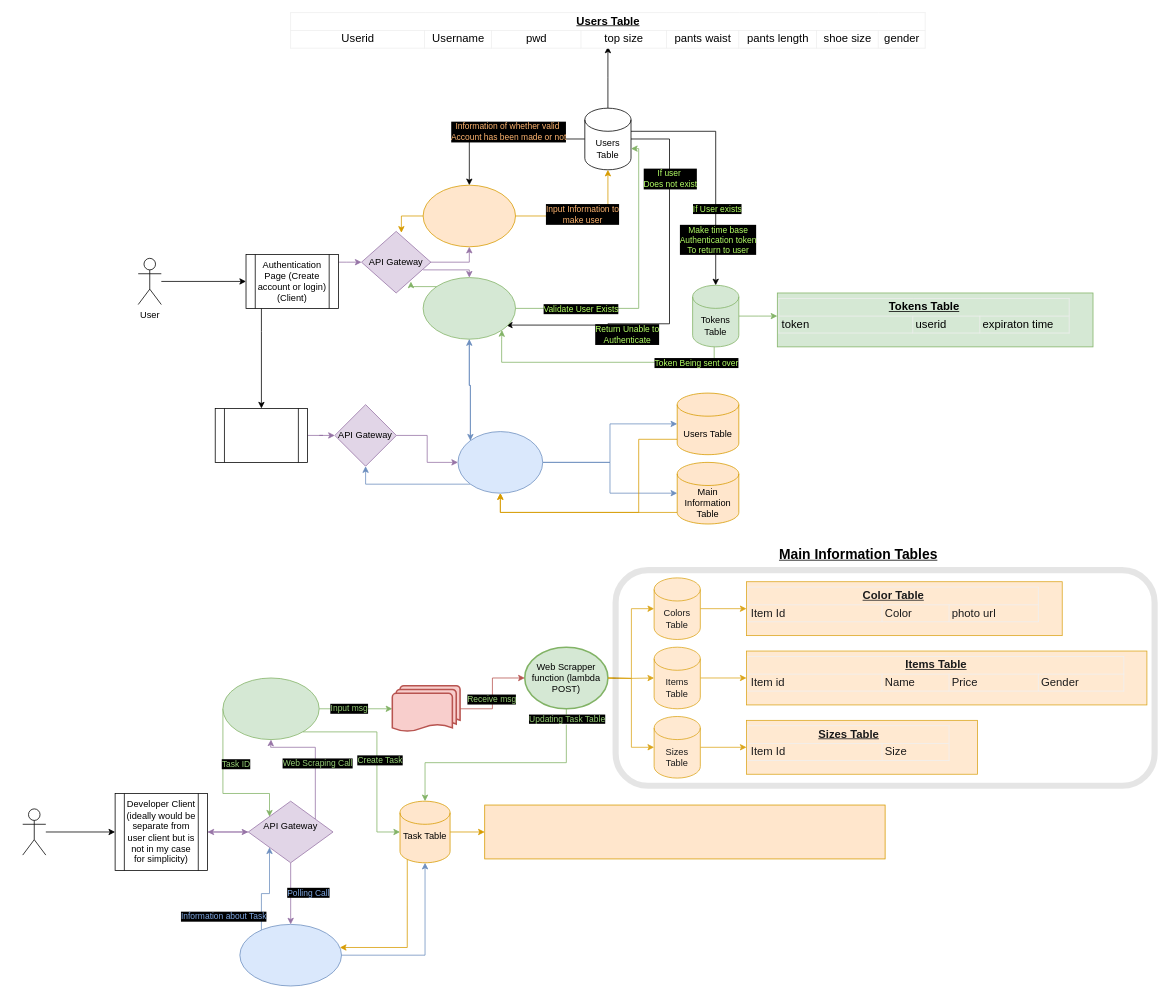
Some shapes in this 1171 by 1000 pixel diagram are drawn without their labels. Each missing label, with the centre of its shape:
"Create acc (Lambda POST) /make" goes at [469,215].
"Developer" goes at [34,831].
"Display Catalog (Lambda GET) /view" goes at [500,462].
"Login(lambda POST) /auth" goes at [469,308].
"Polling Request (Lambda Get) /poll" goes at [290,955].
"scraping tasks table task id task url task status task progress" goes at [684,831].
"SQS" goes at [425,708].
"SQS- Messenger (Lambda POST) /scrape" goes at [270,708].
"Viewing Page (Client)" goes at [261,435].
